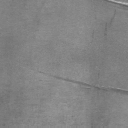finishing roll printing: (38, 70, 128, 96), (106, 0, 128, 8)
